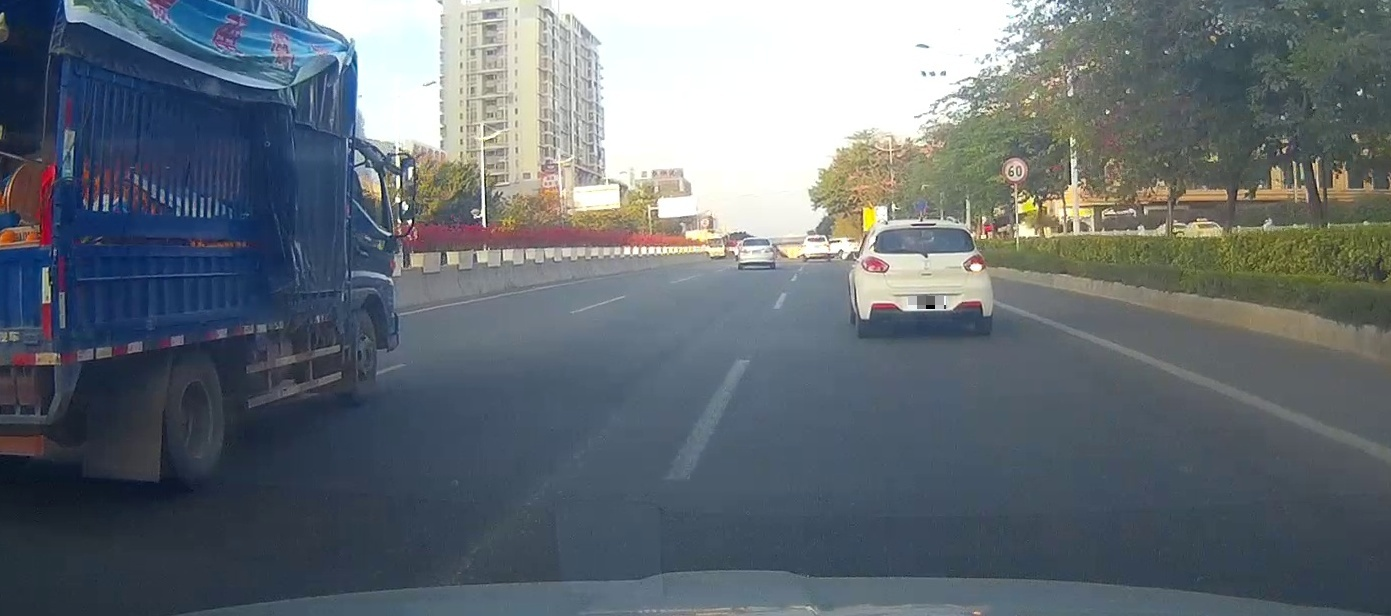L_light: (860, 255, 890, 273), (739, 247, 747, 253)
R_light: (962, 253, 987, 272), (764, 247, 773, 253)
T_light: (910, 222, 936, 226), (753, 239, 757, 240)
day-no: (738, 238, 775, 269)
day-right: (854, 219, 992, 337)
plate_1: (908, 296, 946, 309)
